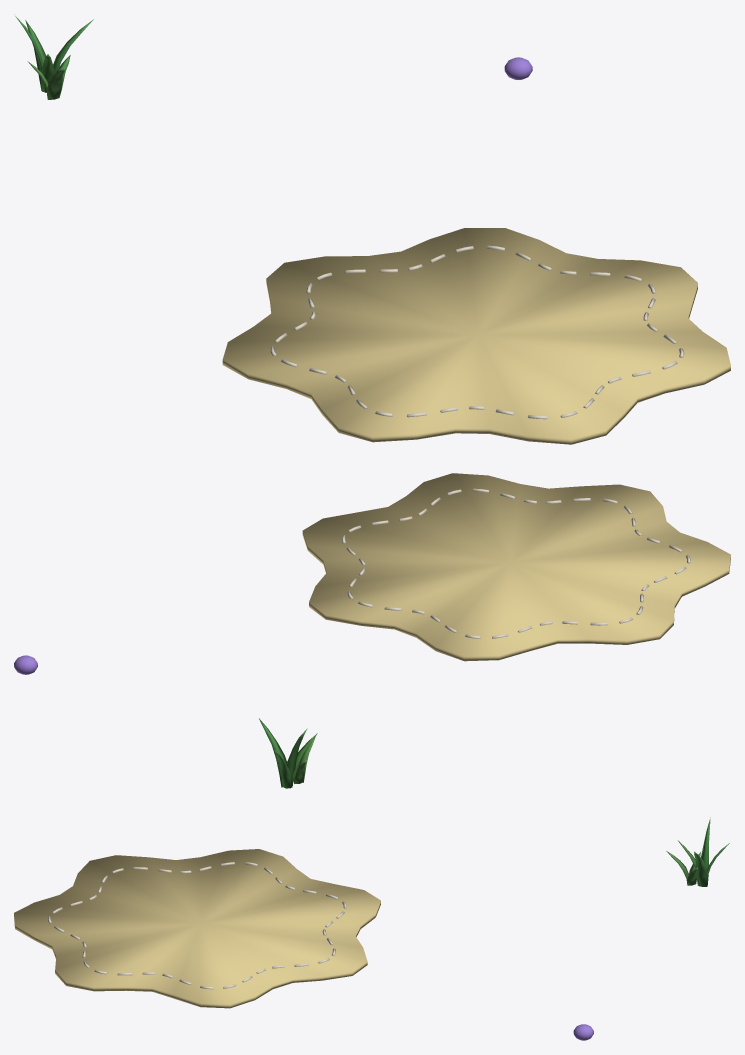
The model's file is W4_FloraRing_7_11.fbx.
The picture shows the model from 3 angles, top to bottom: view 1: azimuth 30°, elevation 25°; view 2: azimuth 150°, elevation 25°; view 3: azimuth 270°, elevation 25°; orthographic projection. The views are drawn at different scales.
Visible parts, largest first — view 1: W4_FloraRing_7_11; view 2: W4_FloraRing_7_11; view 3: W4_FloraRing_7_11.
Part boxes in pixels (<box>): W4_FloraRing_7_11: <box>14,14,730,444</box>; W4_FloraRing_7_11: <box>14,473,730,788</box>; W4_FloraRing_7_11: <box>14,817,729,1040</box>.
Bounding box in the file's own units: 0.9347 × 0.1718 × 1.5.
